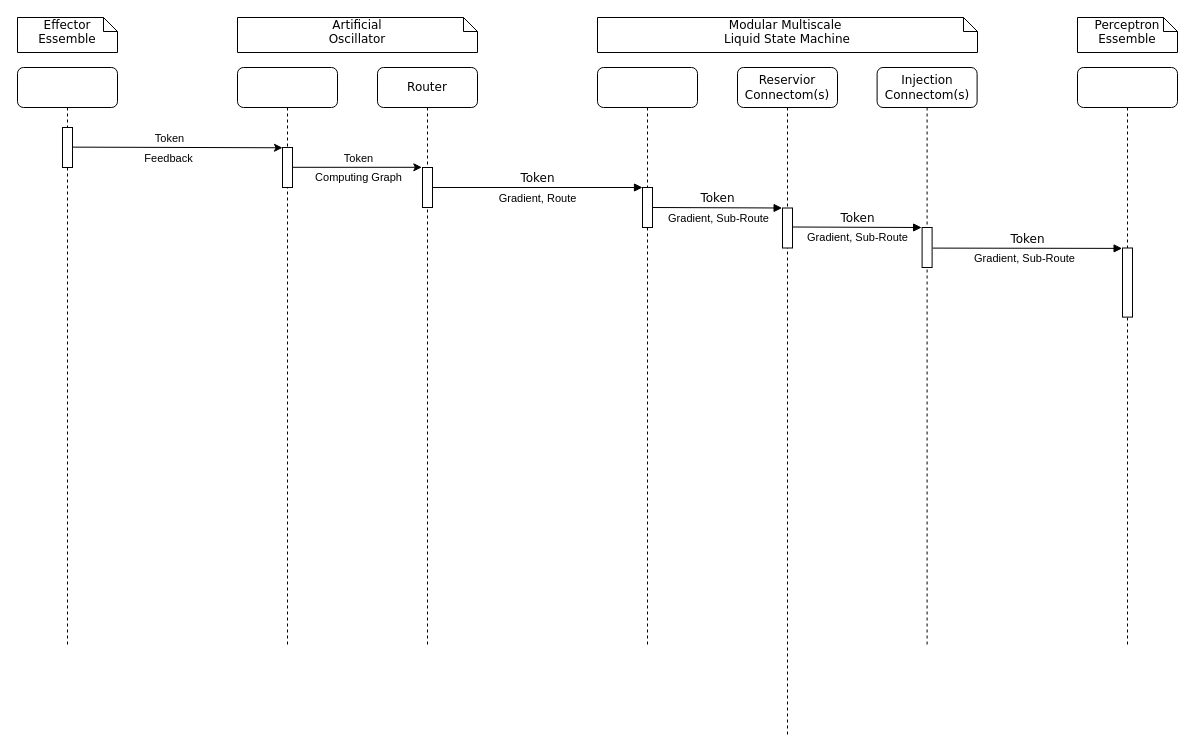
The diagram is 1195 pixels wide and 755 high, and some of its shapes have lost their labels. The box of each missing label's shape, as (x1, y1, x2, y2) in pixels:
Effector(s): (16, 66, 118, 648)
FSG: (236, 66, 338, 648)
Perceptron: (1076, 66, 1178, 648)
Readout Connectom(s): (596, 66, 698, 648)
